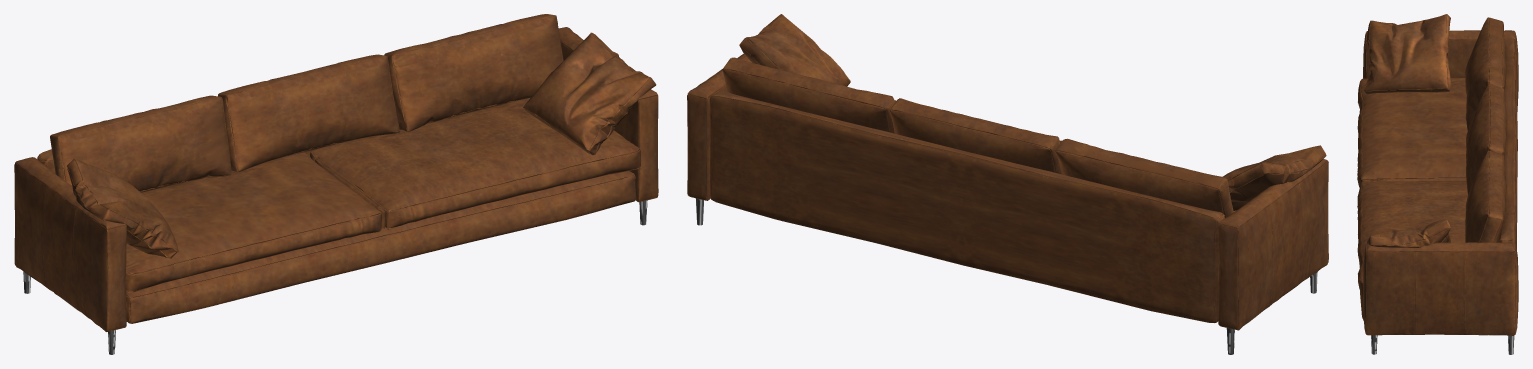
File: raw_model.obj
3 renders of one model, left to right at view 1: azimuth 30°, elevation 25°; view 2: azimuth 150°, elevation 25°; view 3: azimuth 270°, elevation 25°, orthographic. The views are drawn at different scales.
Visible parts, largest first — view 1: solid_001, solid_002; view 2: solid_001, solid_002; view 3: solid_001, solid_002.
Boxes of the visible parts, box(x1,y1,x2,y2) form: solid_001: box(14, 14, 658, 331); solid_002: box(23, 200, 647, 354); solid_001: box(687, 14, 1328, 330); solid_002: box(695, 198, 1317, 354); solid_001: box(1357, 14, 1518, 335); solid_002: box(1371, 335, 1514, 354).
Bounding box in the file's own units: 2.64 × 0.7294 × 0.807.
Materials: 1 (1 with a texture image).
